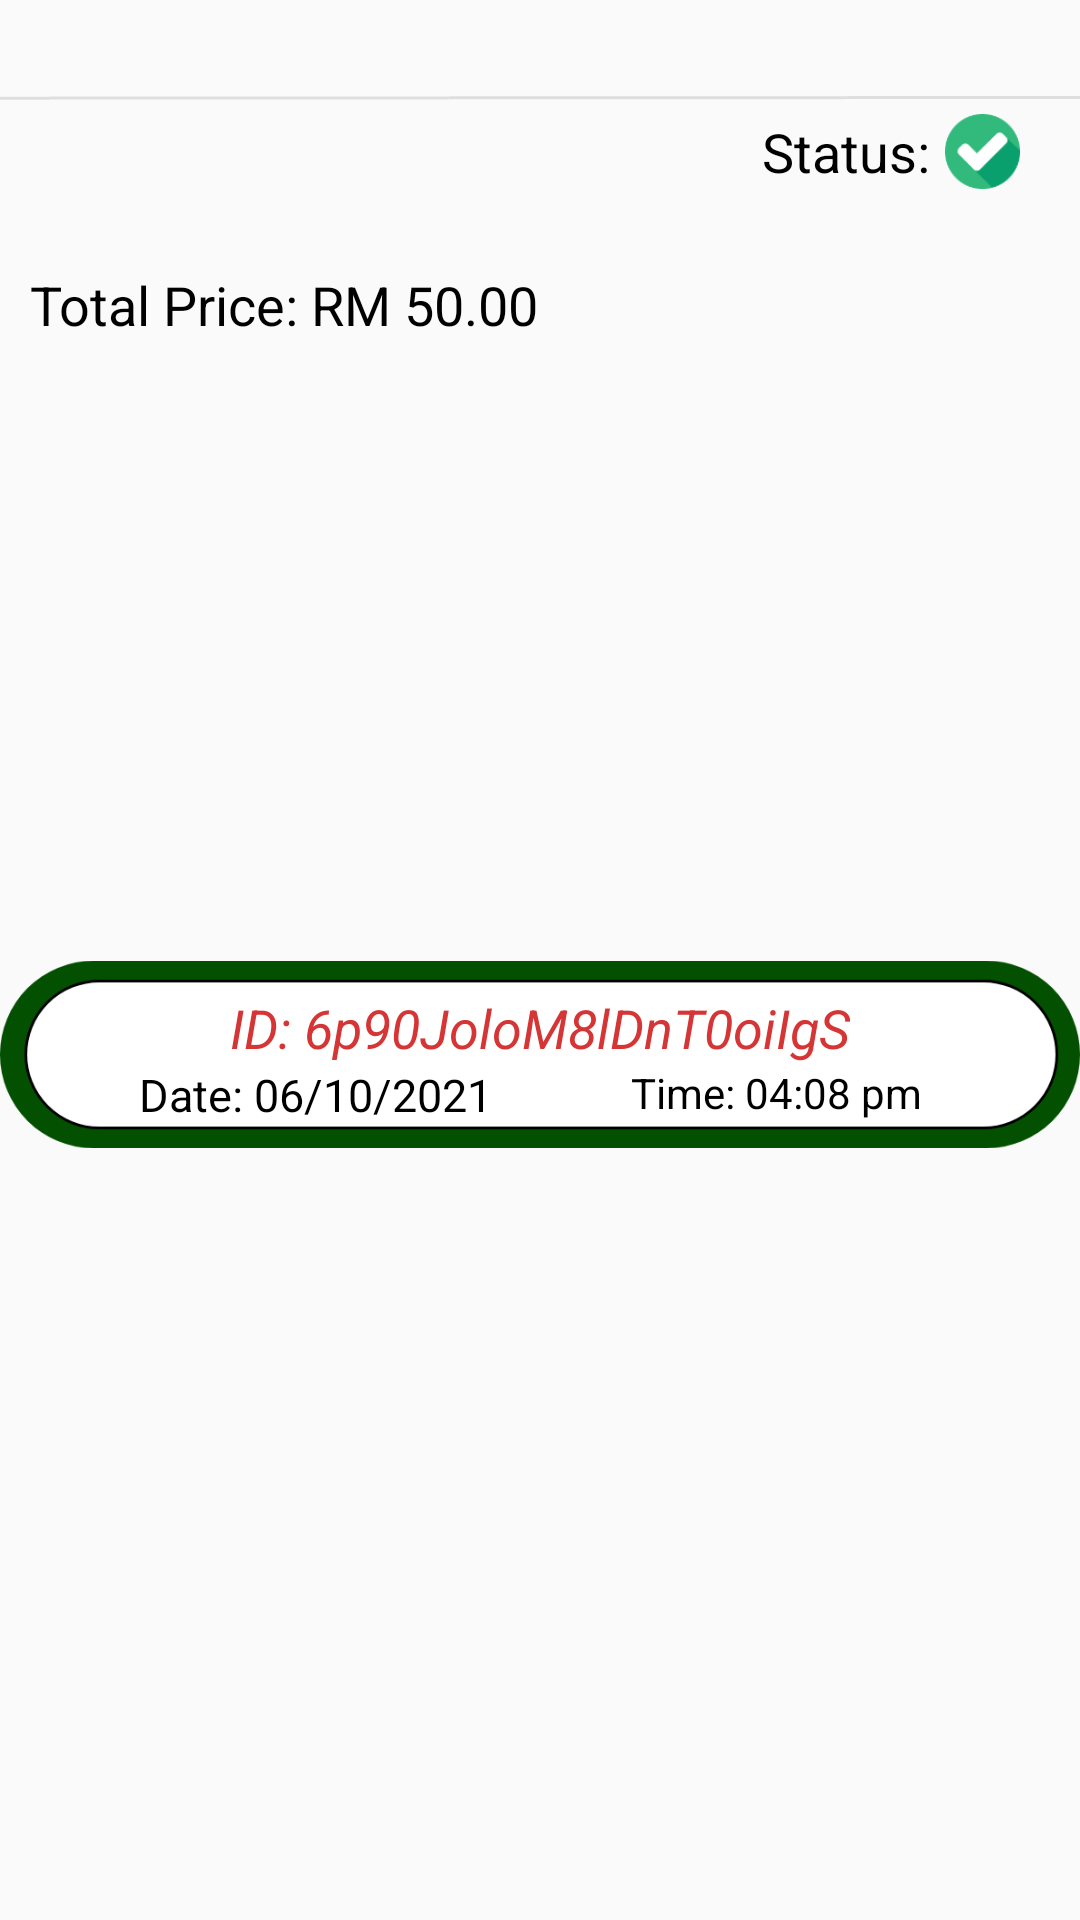

Named icons in this screenshot (1080×1920) and their bounding boxes, (x1, y1, x2, y2):
paid: (945, 114, 1020, 189)
